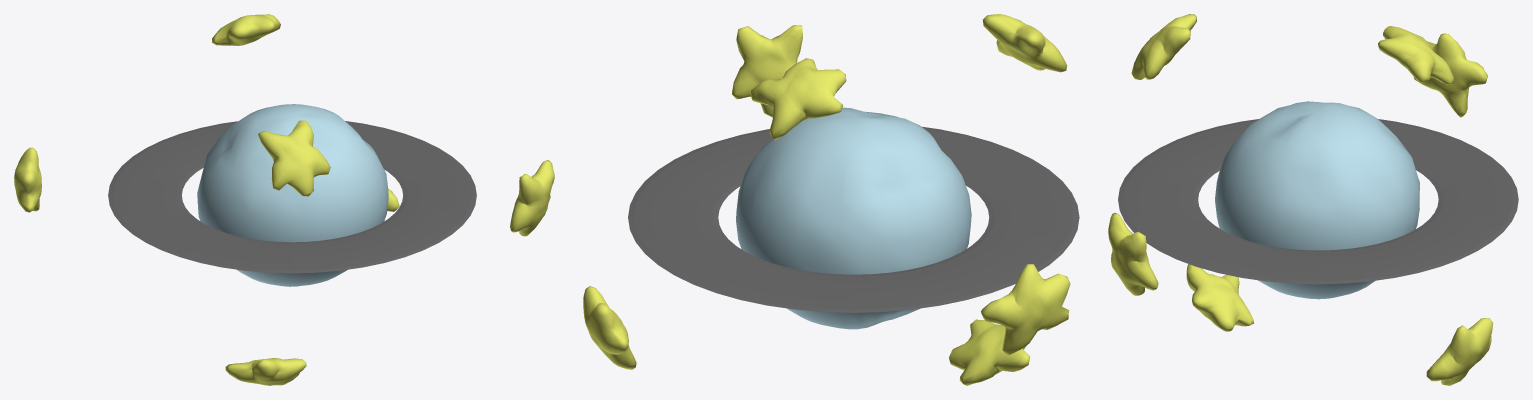
3 renders of one model, left to right at view 1: azimuth 30°, elevation 25°; view 2: azimuth 150°, elevation 25°; view 3: azimuth 270°, elevation 25°, orthographic. The views are drawn at different scales.
Visible parts, largest first — view 1: Torus.001_9, Sphere_2, star4_5, star6_3, star2_7, Star1_8, star3_6; view 2: Torus.001_9, Sphere_2, star3_6, Star1_8, star6_3, star2_7, star4_5, star5_4; view 3: Torus.001_9, Sphere_2, star2_7, star6_3, star5_4, Star1_8, star3_6, star4_5.
Part boxes in pixels (x1,y1,x2,y2): Torus.001_9: (108, 121, 476, 273); Sphere_2: (197, 104, 388, 286); star4_5: (258, 120, 330, 196); star6_3: (510, 160, 554, 236); star2_7: (225, 358, 306, 385); Star1_8: (212, 14, 280, 45); star3_6: (14, 147, 41, 212); Torus.001_9: (628, 126, 1079, 312); Sphere_2: (736, 107, 971, 329); star3_6: (981, 264, 1070, 355); Star1_8: (750, 58, 846, 140); star6_3: (732, 25, 802, 117); star2_7: (949, 319, 1029, 385); star4_5: (983, 14, 1067, 72); star5_4: (583, 286, 636, 369); Torus.001_9: (1118, 119, 1518, 284); Sphere_2: (1215, 101, 1419, 299); star2_7: (1186, 264, 1253, 331); star6_3: (1108, 212, 1158, 295); star5_4: (1426, 318, 1493, 385); Star1_8: (1378, 26, 1454, 84); star3_6: (1413, 33, 1487, 117); star4_5: (1131, 14, 1196, 79).
Bounding box in the file's own units: 3.13 × 2.22 × 2.56.
